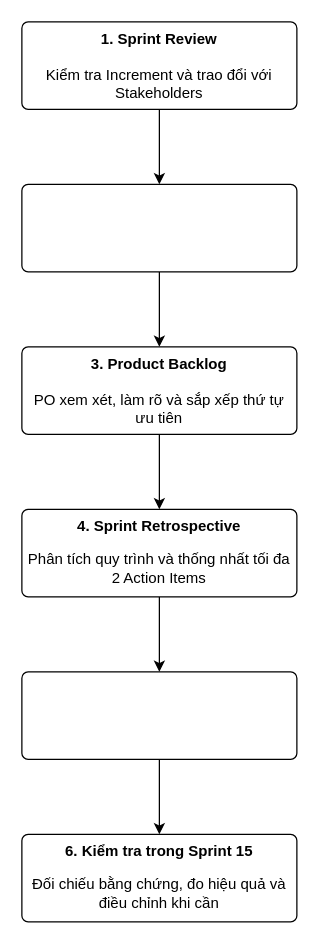
The diagram is 319 pixels wide and 949 high, and some of its shapes have lost their labels. Each missing label, with the centre of its shape:
2. Feedback Log Ghi nguồn, bằng chứng và thông tin còn thiếu: the point at 159,227
5. Action Items Xác định hành động, nhóm theo dõi, thời điểm và bằng chứng: the point at 159,715
